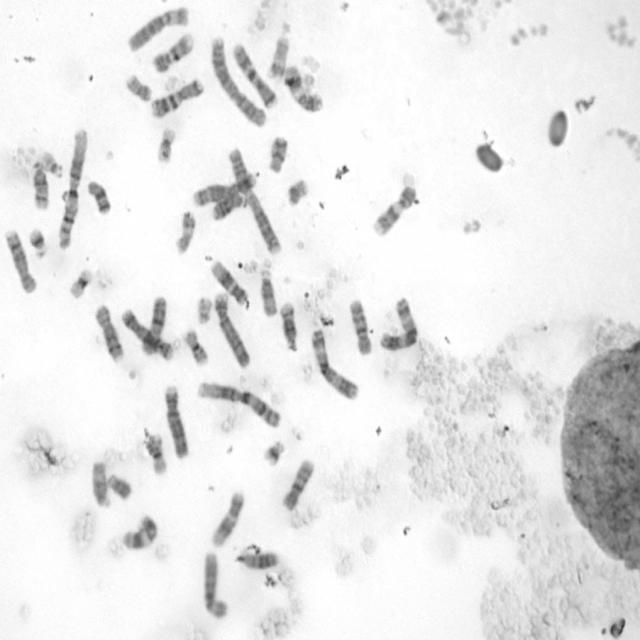A1: (194, 376, 284, 429), (55, 125, 88, 251)
A2: (225, 144, 283, 256), (208, 33, 269, 128)
A3: (309, 325, 360, 401), (378, 294, 420, 352)
B4: (212, 288, 252, 370), (162, 382, 190, 460)
B5: (119, 306, 175, 362), (189, 174, 255, 209)
C10: (280, 455, 316, 512), (346, 294, 373, 356)
C11: (282, 63, 325, 114), (119, 511, 159, 551)
C12: (209, 487, 246, 548), (208, 256, 249, 308)
C6: (125, 3, 190, 52), (199, 548, 230, 620)
C7: (231, 38, 279, 110), (147, 76, 205, 119)
C8: (2, 226, 38, 294), (93, 301, 125, 363)
C9: (370, 180, 419, 238), (151, 28, 195, 73)
D13: (212, 192, 249, 222), (234, 548, 280, 571)
D14: (278, 298, 300, 353), (29, 159, 51, 212)
D15: (89, 455, 113, 511), (258, 266, 278, 318)
E16: (142, 431, 168, 477), (181, 326, 209, 367)
E17: (266, 24, 292, 80), (173, 206, 197, 256)
E18: (85, 176, 112, 216), (266, 132, 290, 175)
F19: (66, 265, 94, 300), (154, 124, 177, 165)
F20: (123, 71, 153, 103), (286, 175, 309, 208)
G21: (259, 435, 288, 468), (25, 223, 49, 260)
G22: (38, 145, 64, 179), (194, 292, 213, 326)
X: (140, 293, 167, 357)
Y: (105, 471, 133, 500)
